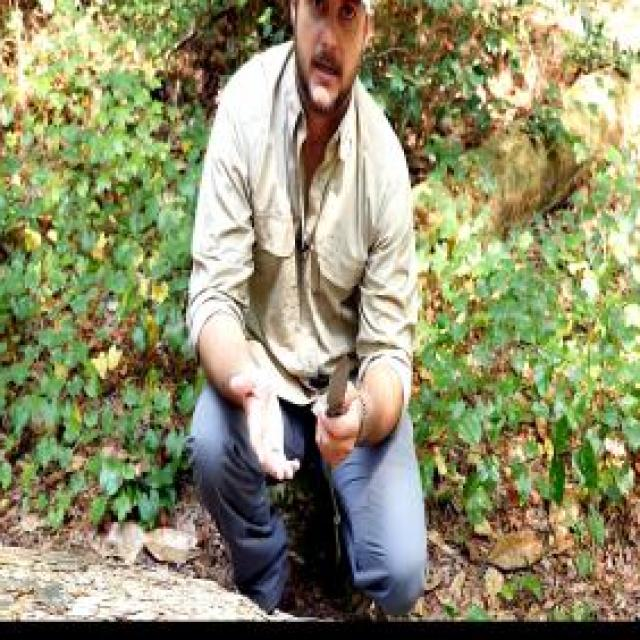knife: (312, 338, 356, 472)
